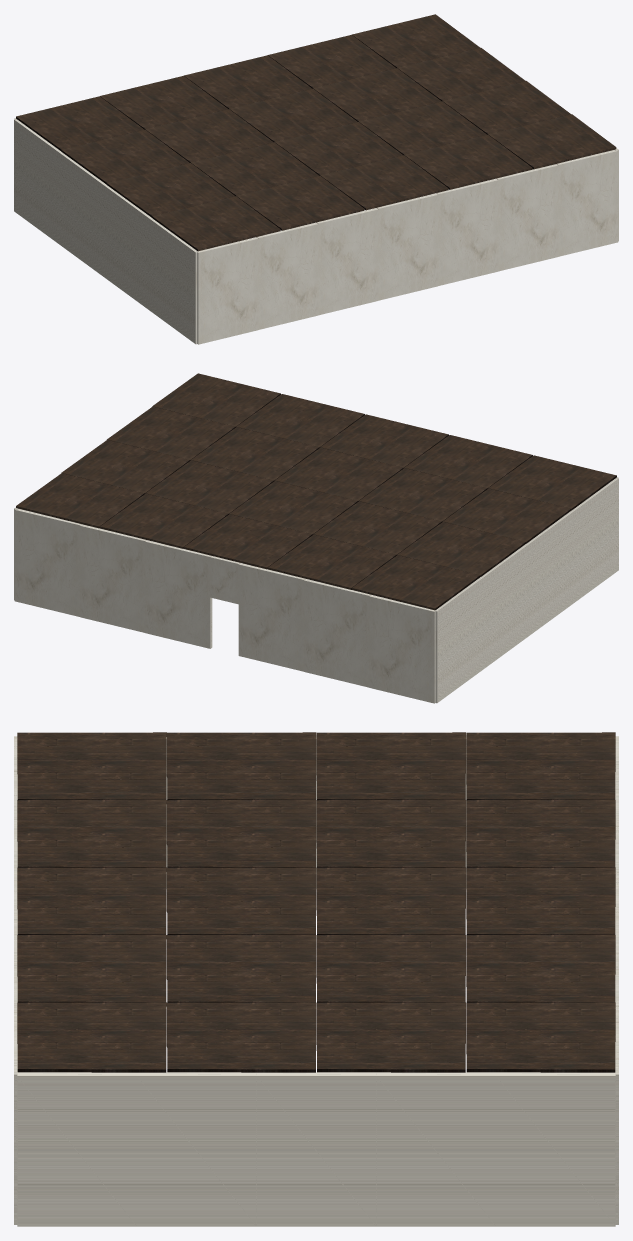
File: int-shell-shopfront-a.glb
3 views of the same model, one above another, from view 1: azimuth 30°, elevation 25°; view 2: azimuth 150°, elevation 25°; view 3: azimuth 270°, elevation 25° (orthographic). The views are drawn at different scales.
Visible parts, largest first — view 1: ceiling_backing_00_00; view 2: ceiling_backing_00_00; view 3: ceiling_backing_00_00.
Boxes of the visible parts, <box> form: ceiling_backing_00_00: <box>14,14,618,344</box>; ceiling_backing_00_00: <box>14,373,618,703</box>; ceiling_backing_00_00: <box>14,732,618,1226</box>.
Bounding box in the file's own units: 20.16 × 4.3 × 15.16.
Materials: 2 (2 with a texture image).
